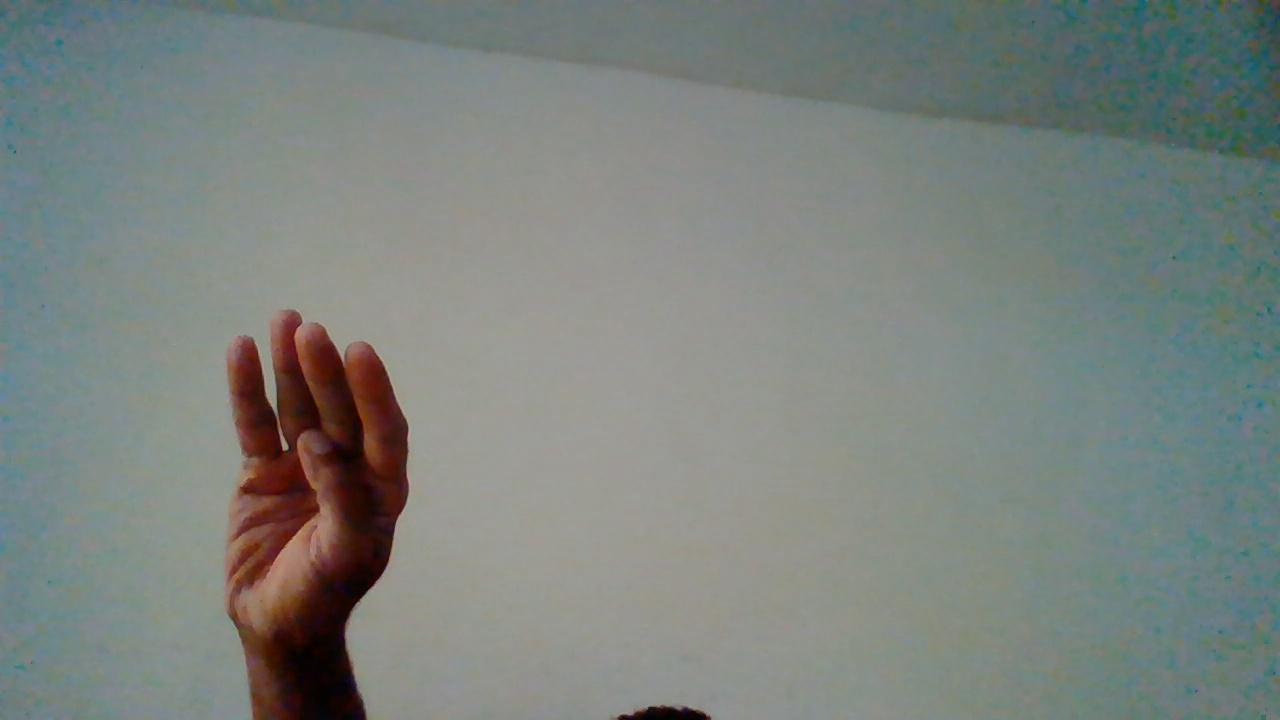me: (220, 307, 385, 691)
